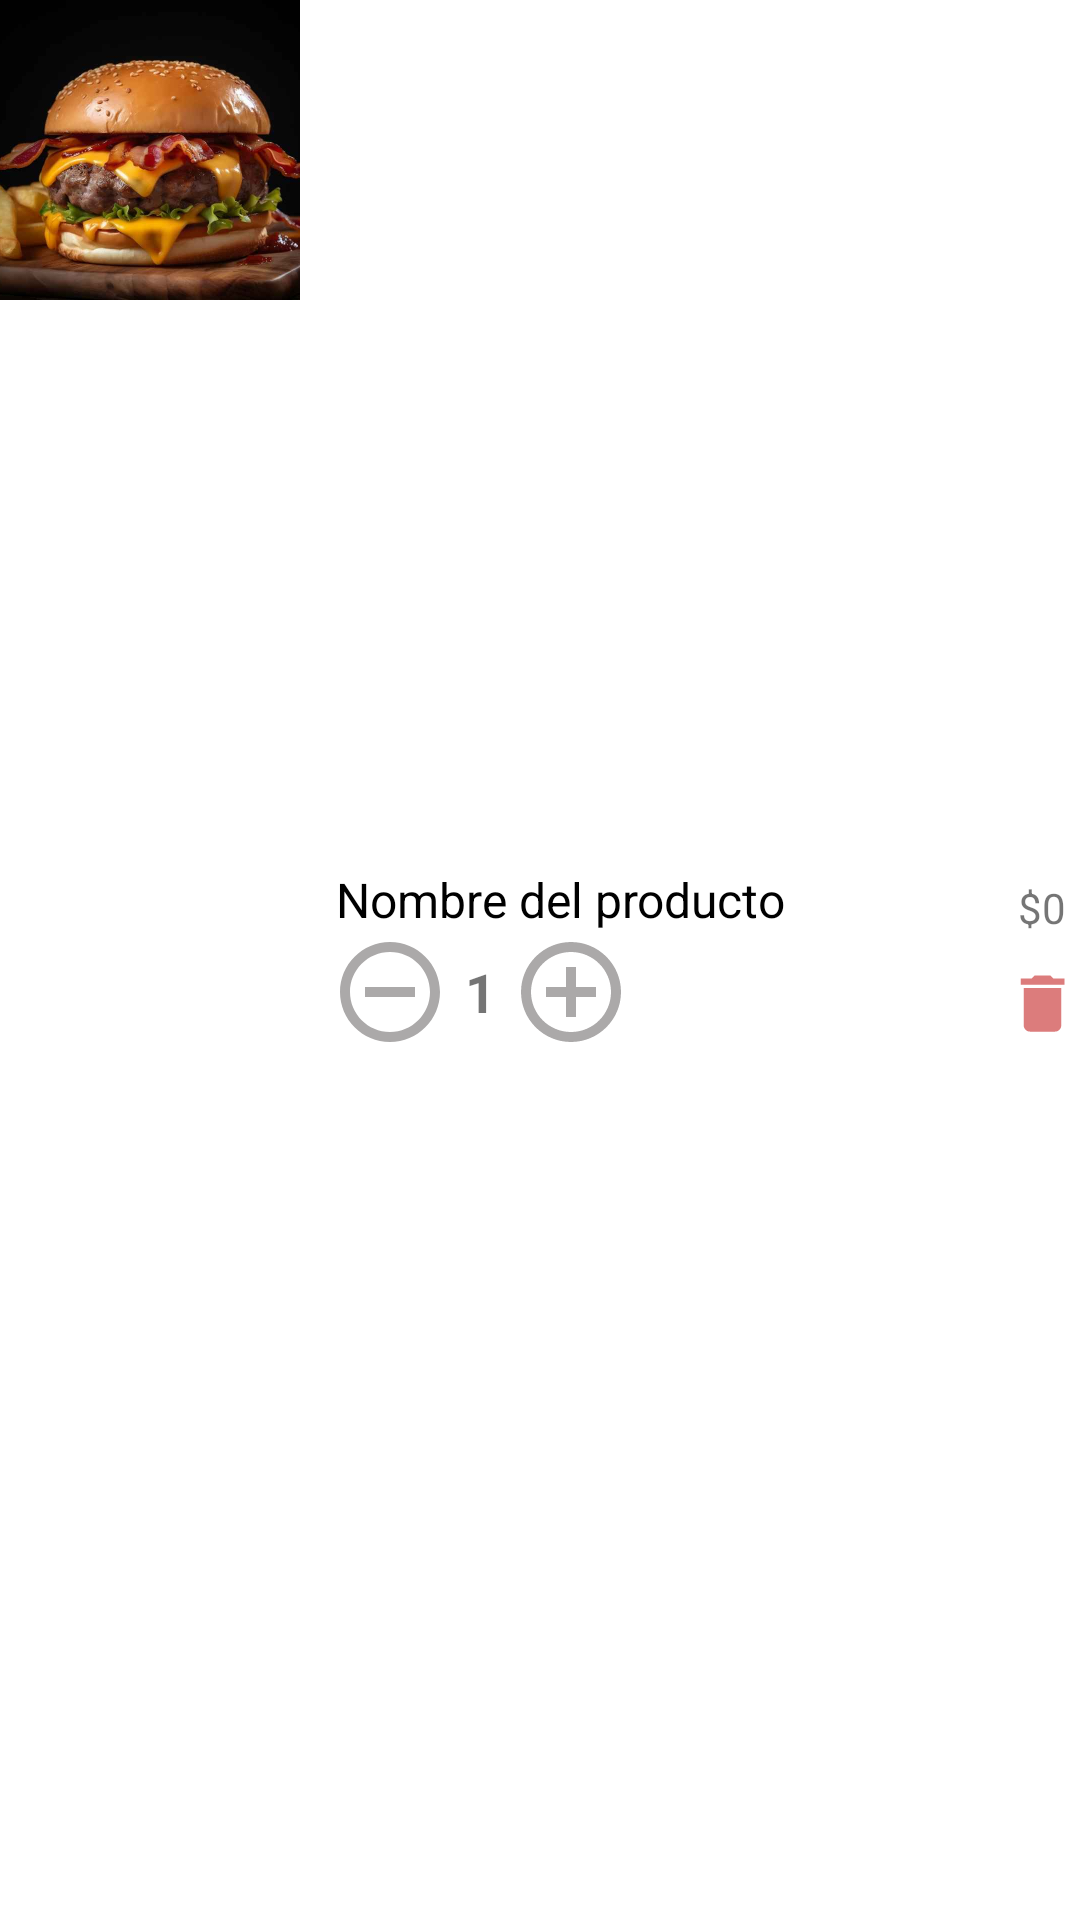

Named icons in this screenshot (1080 × 1920) and their centers, [x,y]:
add: [571,992]
delete: [1042,1003]
hamburguesa: [150,150]
remove: [390,992]
